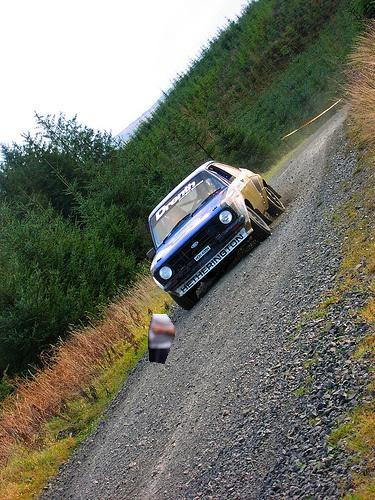tampered: (149, 314, 175, 364)
